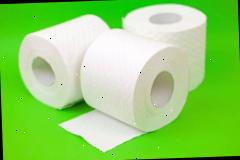paper: (78, 26, 190, 135), (16, 13, 112, 111), (120, 2, 208, 94), (58, 107, 148, 154)
